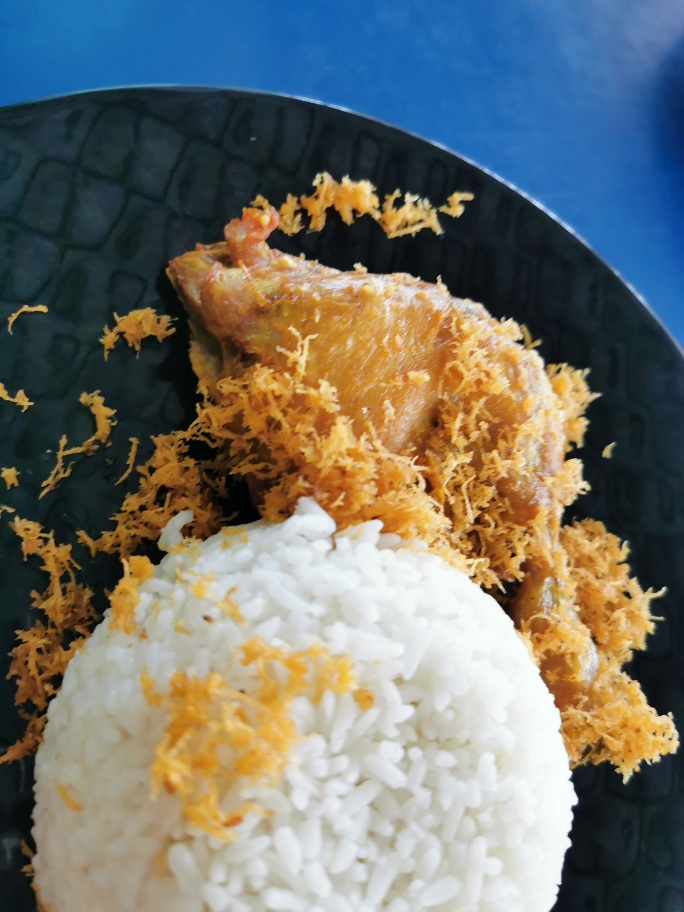ayam goreng: (186, 211, 661, 782)
nasi putih: (28, 513, 588, 912)
